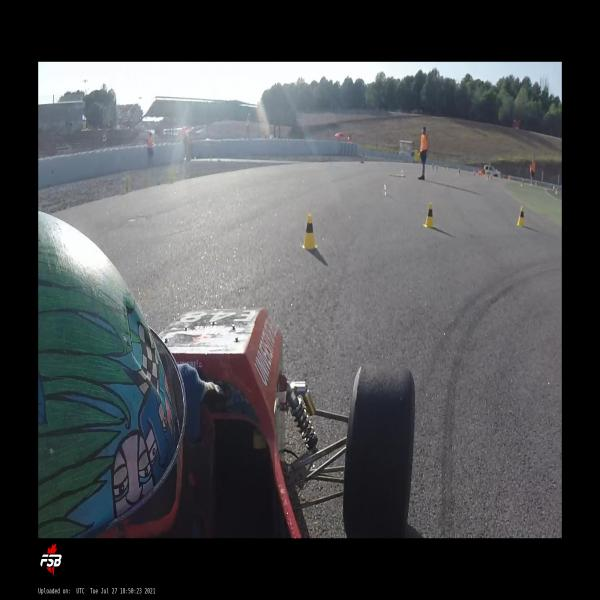yellow_cone: (301, 214, 318, 250), (422, 202, 436, 228), (516, 206, 526, 226)
